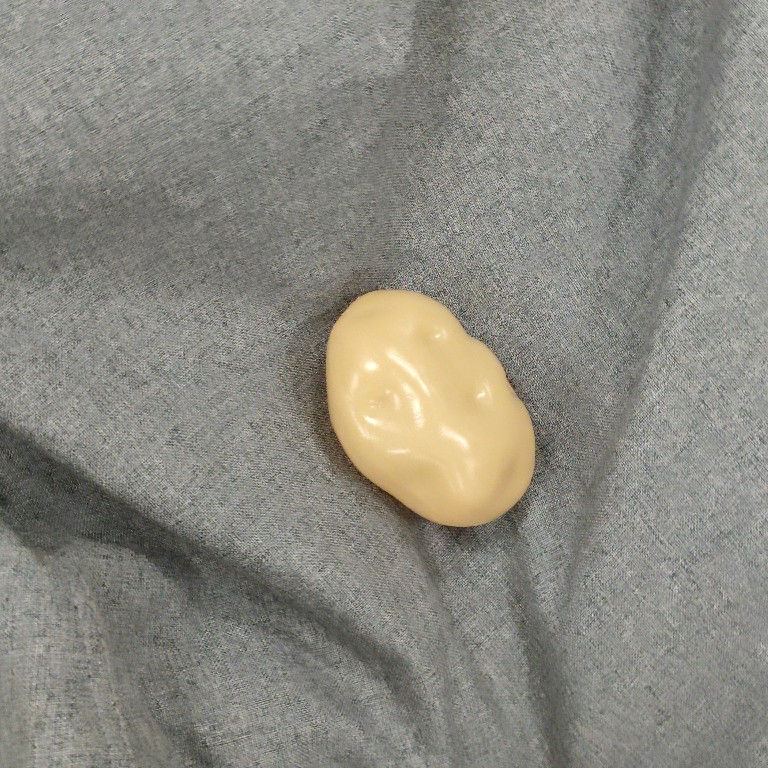fruit_potato: (316, 282, 543, 532)
